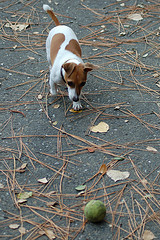tennis ball: (84, 199, 107, 224)
